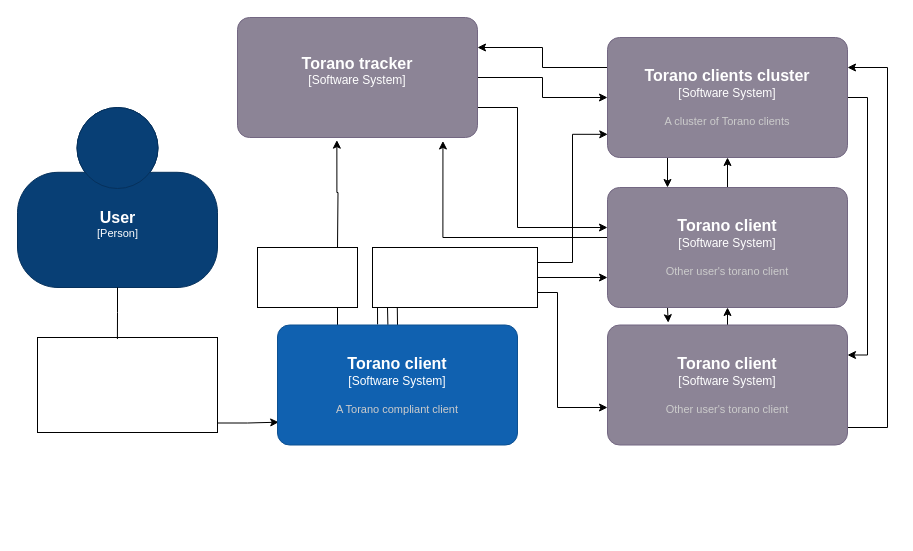
Image size: 913x551. Some labels were removed from this diagram. Each missing label, with the centre of its shape:
Exchanges messages: (x=307, y=277)
Exchanges pieces anoymously: (x=455, y=277)
Start download Stop download Create ".torano" files Load ".torano" files: (x=127, y=384)
